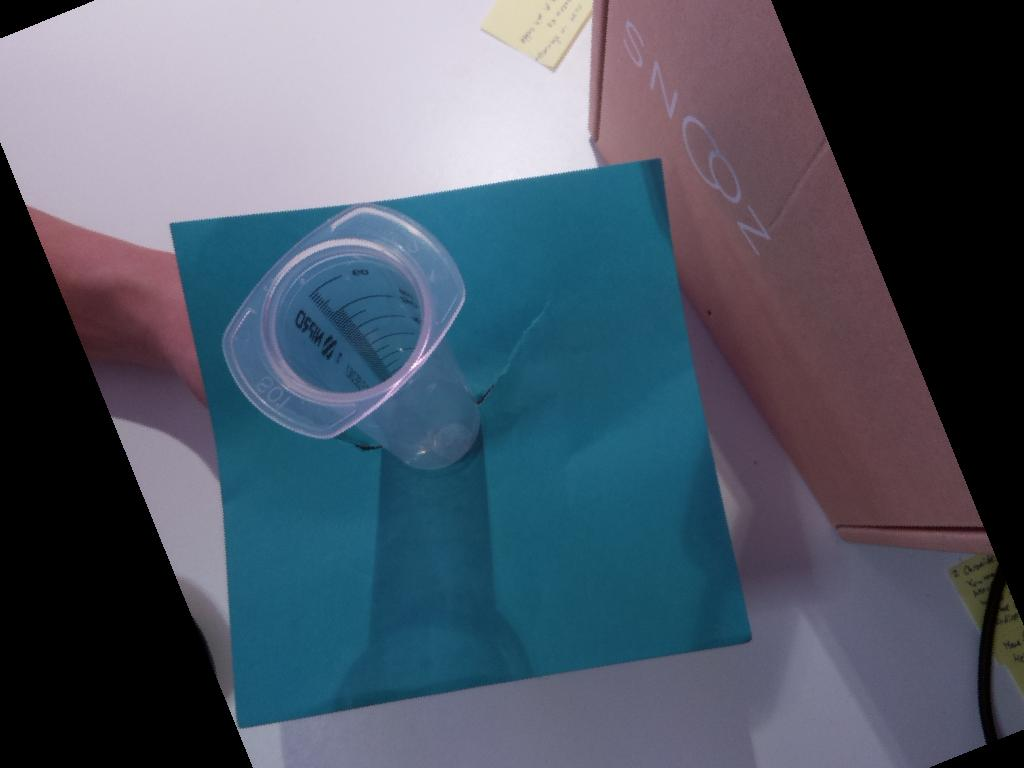clean: (219, 204, 468, 440)
